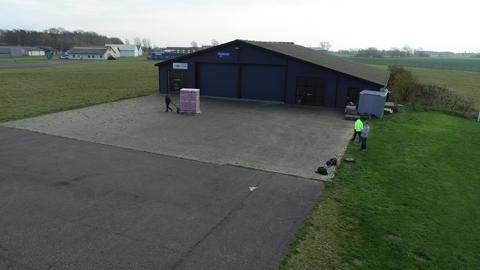RockwoolPallet: (179, 87, 201, 115)
